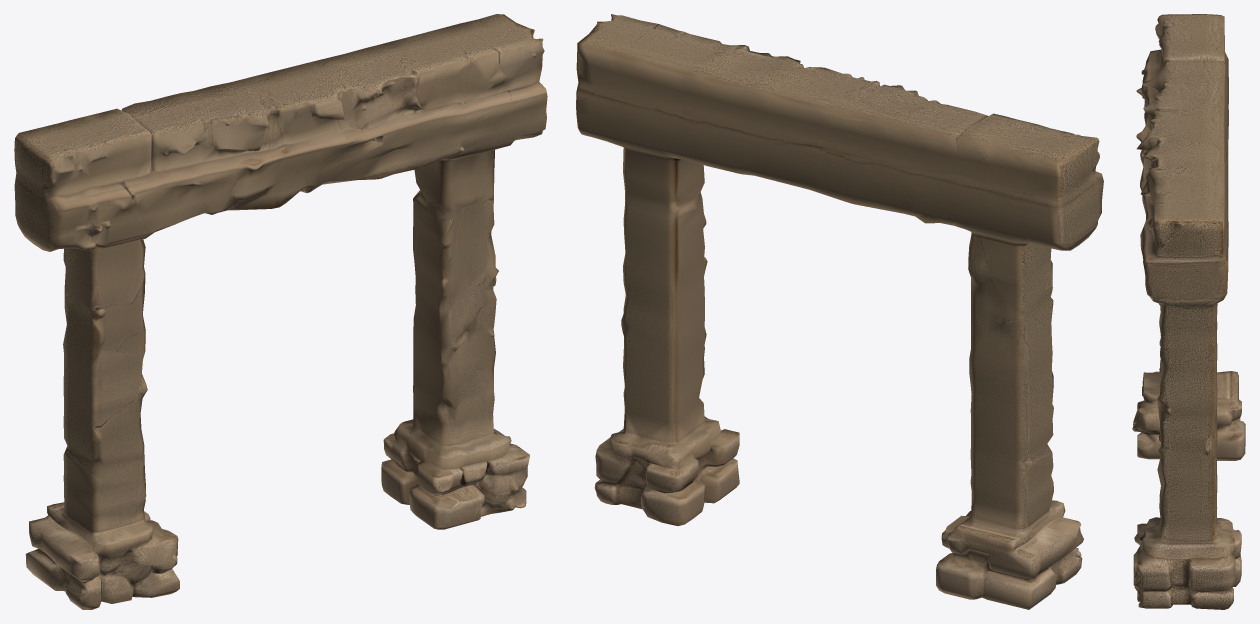
The model's file is arco_dimora.fbx.
3 renders of one model, left to right at view 1: azimuth 30°, elevation 25°; view 2: azimuth 150°, elevation 25°; view 3: azimuth 270°, elevation 25°, orthographic. The views are drawn at different scales.
Visible parts, largest first — view 1: tripo_node_21bc679a; view 2: tripo_node_21bc679a; view 3: tripo_node_21bc679a.
Part boxes in pixels (<box>): tripo_node_21bc679a: <box>14,14,547,609</box>; tripo_node_21bc679a: <box>576,14,1103,609</box>; tripo_node_21bc679a: <box>1132,14,1245,609</box>.
Bounding box in the file's own units: 0.9995 × 0.8765 × 0.2251.
Materials: 1 (1 with a texture image).
